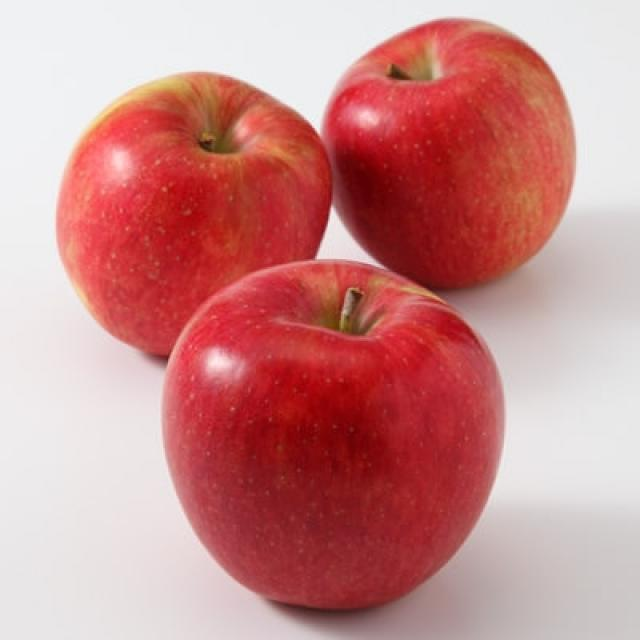Apple: (162, 255, 508, 613), (51, 72, 338, 363), (326, 11, 581, 294)
